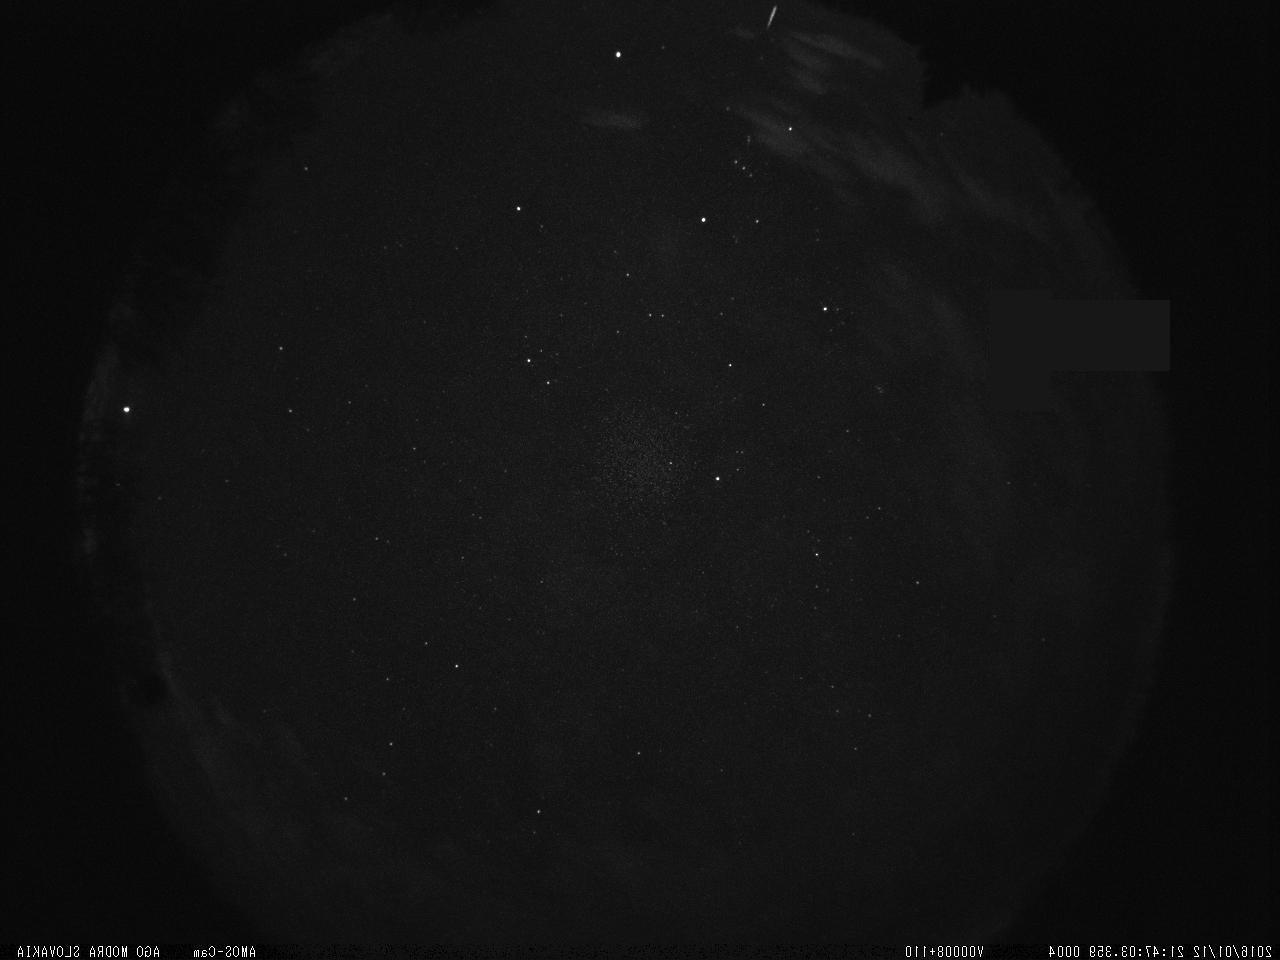meteor: (747, 0, 792, 36)
